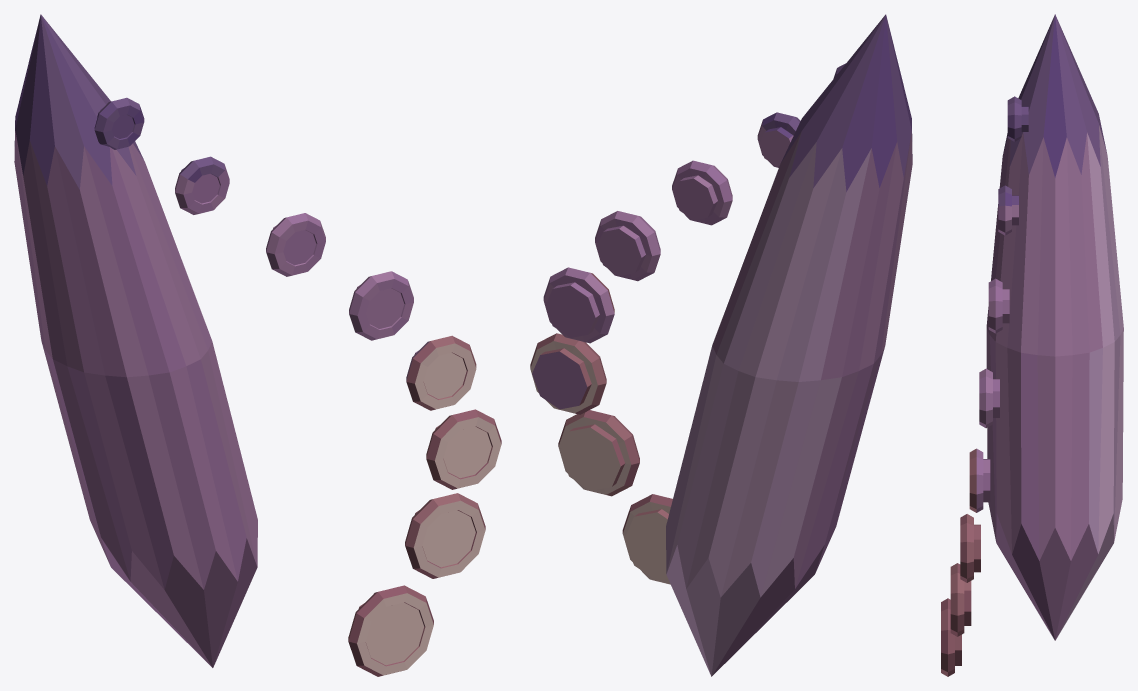
Rendered from Tentacle.glb.
3 renders of one model, left to right at view 1: azimuth 30°, elevation 25°; view 2: azimuth 150°, elevation 25°; view 3: azimuth 270°, elevation 25°, orthographic. The views are drawn at different scales.
Parts seen in each view (by area): view 1: Tentacle; view 2: Tentacle; view 3: Tentacle.
Part boxes in pixels (left/top/right/bottom): Tentacle: left=14, top=14, right=501, bottom=676; Tentacle: left=530, top=14, right=912, bottom=676; Tentacle: left=941, top=14, right=1123, bottom=676.
Bounding box in the file's own units: 0.4958 × 0.7778 × 0.2302.
